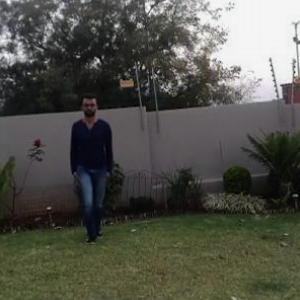follow: (69, 93, 118, 238)
